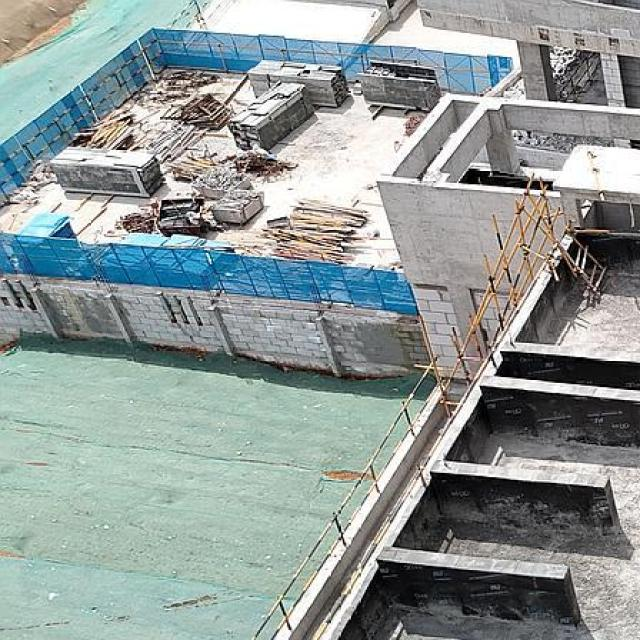edge_guardrail: (314, 224, 640, 640), (247, 355, 450, 640), (0, 39, 167, 187), (556, 51, 596, 102)
